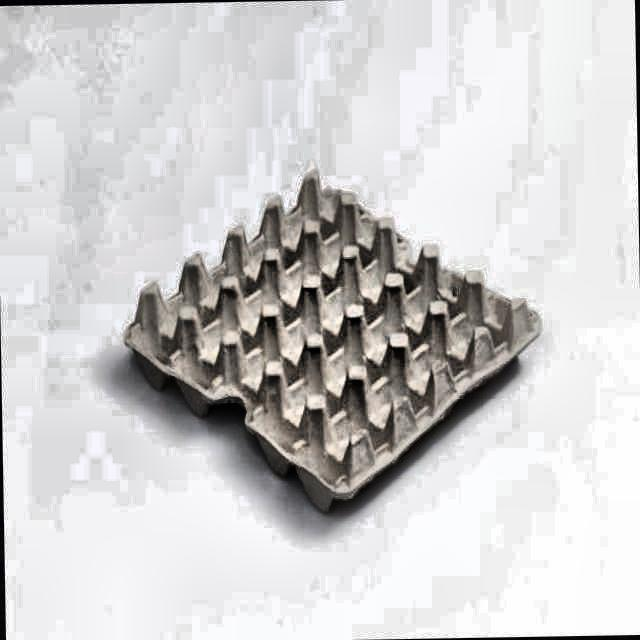cardboard: (122, 173, 543, 514)
